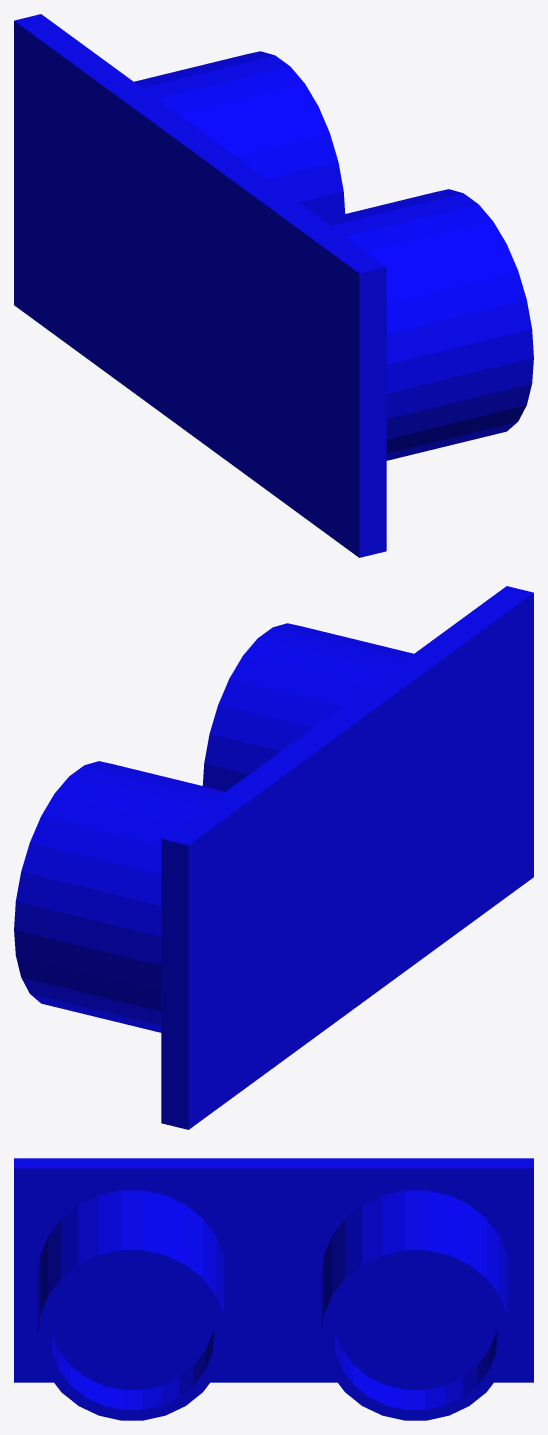
Rendered from sonar.dae.
3 renders of one model, top to bottom at view 1: azimuth 30°, elevation 25°; view 2: azimuth 150°, elevation 25°; view 3: azimuth 270°, elevation 25°, orthographic. The views are drawn at different scales.
Visible parts, largest first — view 1: node0; view 2: node0; view 3: node0.
Boxes of the visible parts, left/top/right/bottom form: node0: left=14, top=14, right=533, bottom=557; node0: left=14, top=586, right=533, bottom=1129; node0: left=14, top=1158, right=533, bottom=1420.
Size of the model in its own units: 0.014 by 0.044 by 0.02.
